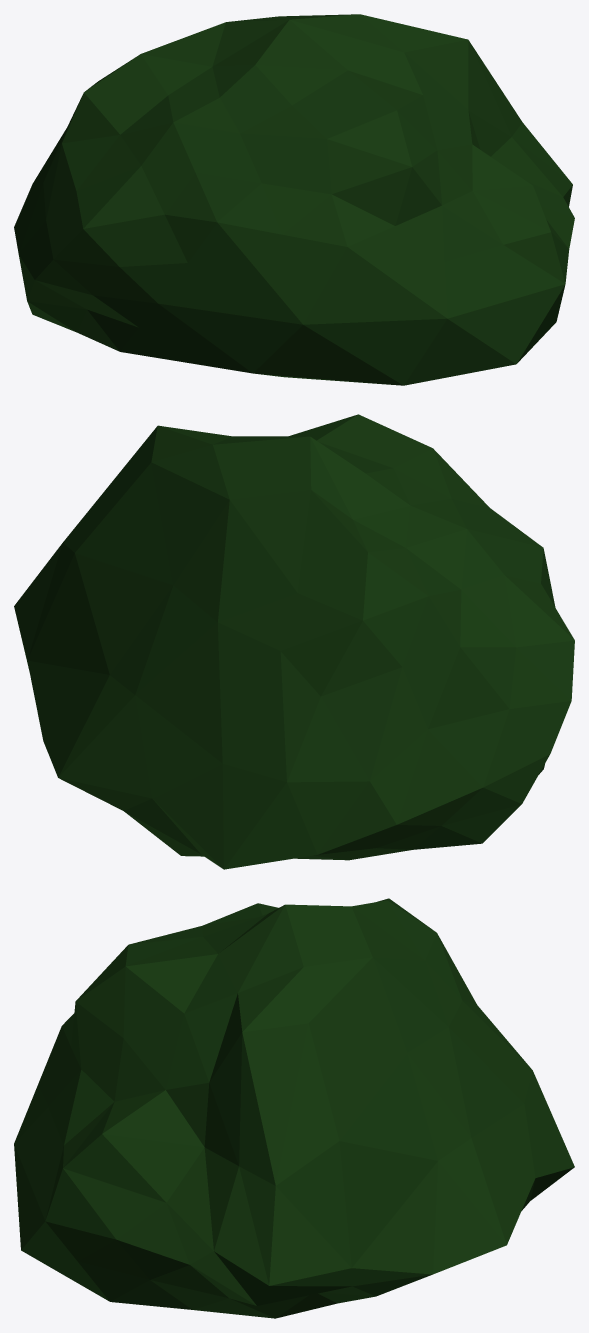
File: Bush.fbx
The picture shows the model from 3 angles, top to bottom: view 1: azimuth 30°, elevation 25°; view 2: azimuth 150°, elevation 25°; view 3: azimuth 270°, elevation 25°; orthographic projection. The views are drawn at different scales.
Visible parts, largest first — view 1: Bush; view 2: Bush; view 3: Bush.
Part boxes in pixels (x1,y1,x2,y2): Bush: [14, 14, 574, 385]; Bush: [14, 414, 574, 869]; Bush: [14, 898, 574, 1318].
Size of the model in its own units: 370 by 225 by 332.
